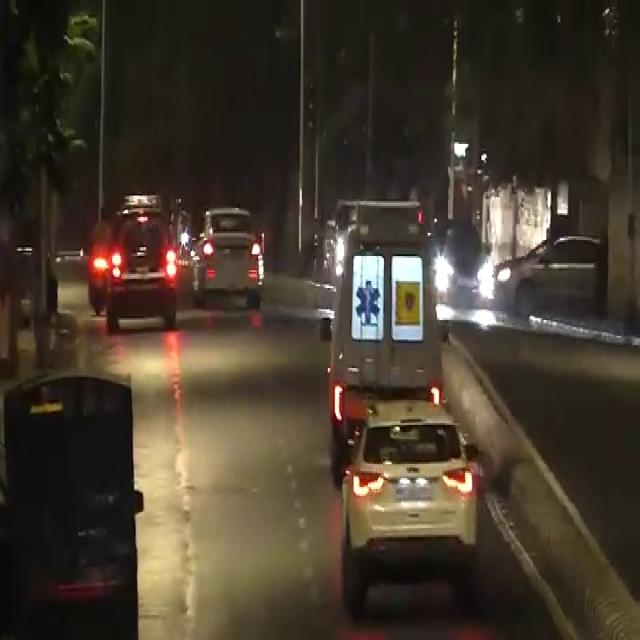ambulance: (296, 167, 437, 415)
